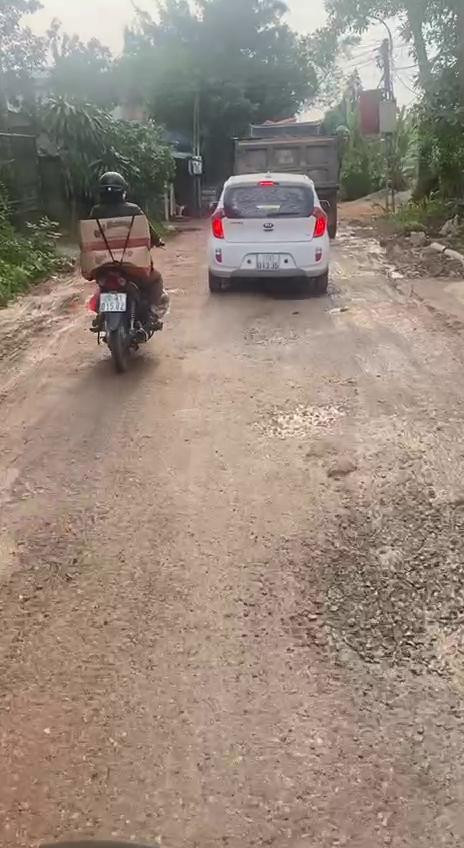pothole: (298, 499, 464, 688)
